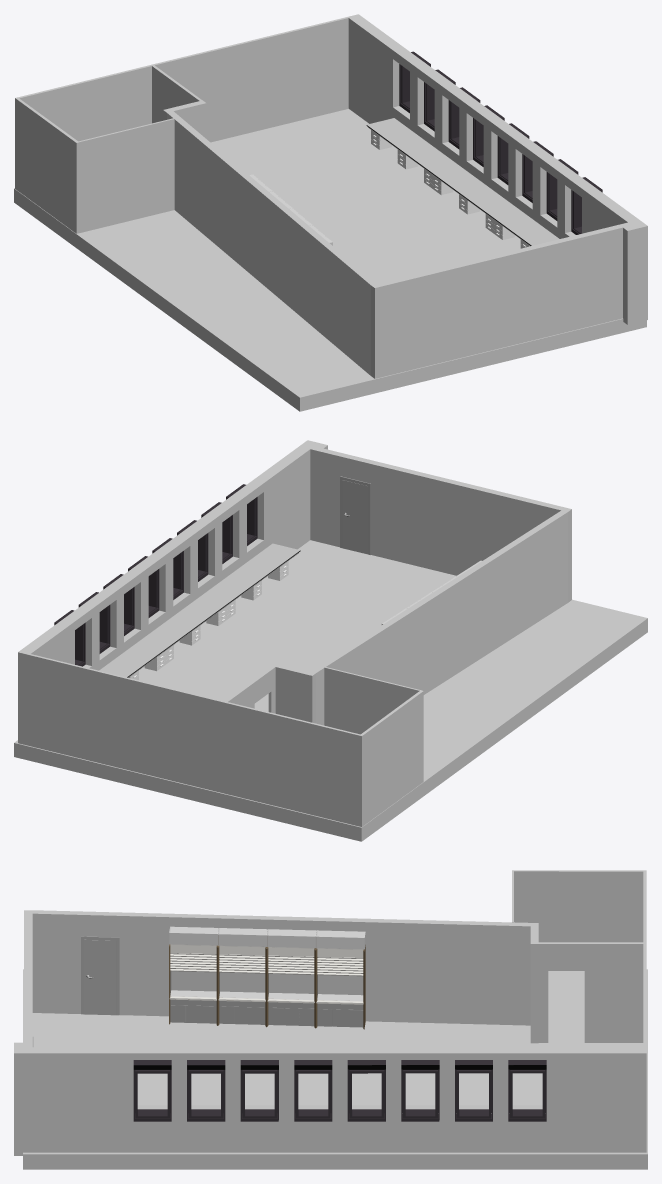
File: SceneV5.gltf
3 views of the same model, one above another, from view 1: azimuth 30°, elevation 25°; view 2: azimuth 150°, elevation 25°; view 3: azimuth 270°, elevation 25° (orthographic). The views are drawn at different scales.
Parts seen in each view (by area): view 1: Ramen.001; view 2: Ramen.001; view 3: Ramen.001.
Boxes of the visible parts, x1=… form: Ramen.001: x1=14, y1=14, x2=647, y2=411; Ramen.001: x1=14, y1=440, x2=647, y2=841; Ramen.001: x1=14, y1=870, x2=647, y2=1169.
Size of the model in its own units: 14.02 by 3.98 by 19.92.
Materials: 5 (4 with a texture image).
